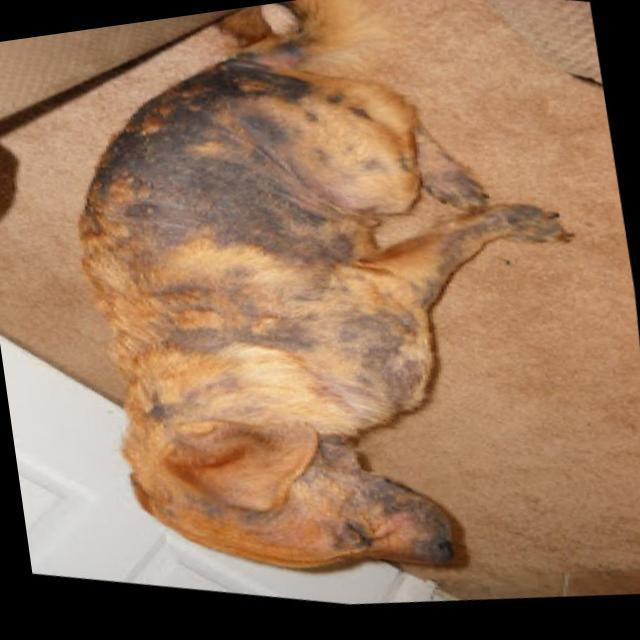mange: (93, 73, 425, 391)
